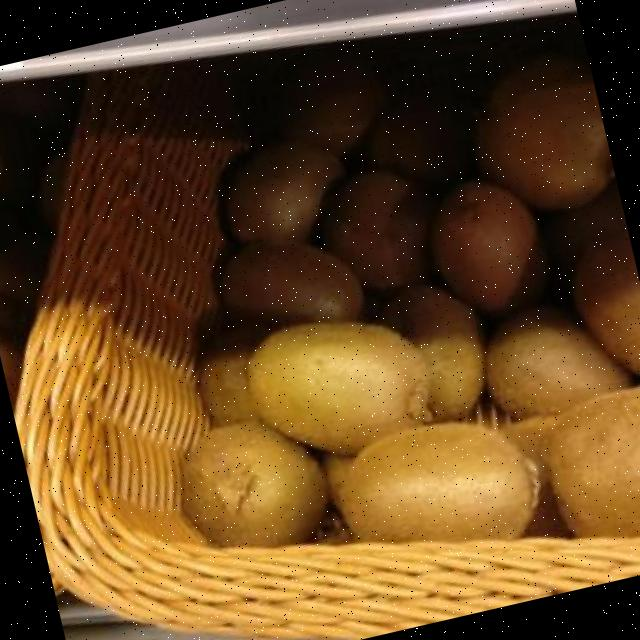kiwi: (247, 321, 426, 453), (341, 422, 535, 540), (478, 59, 613, 208), (182, 420, 328, 547), (319, 169, 434, 290), (486, 320, 627, 418), (548, 386, 640, 534), (433, 182, 535, 311), (224, 144, 342, 243), (222, 243, 363, 322), (403, 287, 484, 418), (281, 55, 383, 154), (575, 233, 640, 372), (198, 322, 270, 425)
